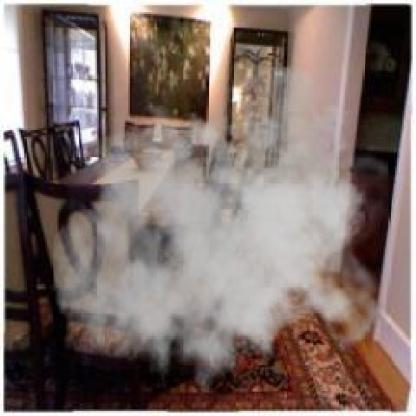Smoke: (50, 67, 388, 408)
